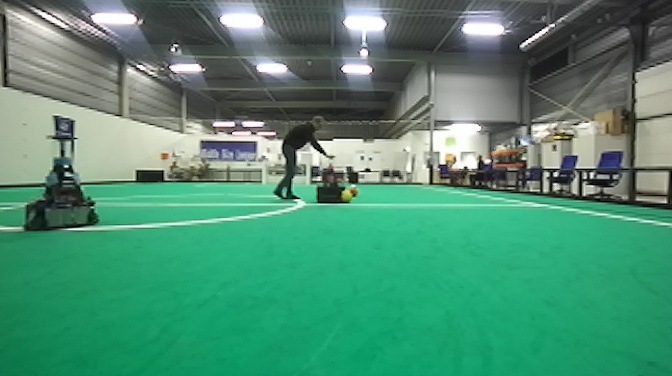ball: (350, 183, 361, 200), (342, 188, 353, 204)
goal: (261, 160, 311, 186)
goalpost: (261, 160, 267, 185), (305, 159, 310, 187)
human: (269, 114, 340, 202)
robot: (20, 113, 102, 234), (314, 155, 347, 205)
